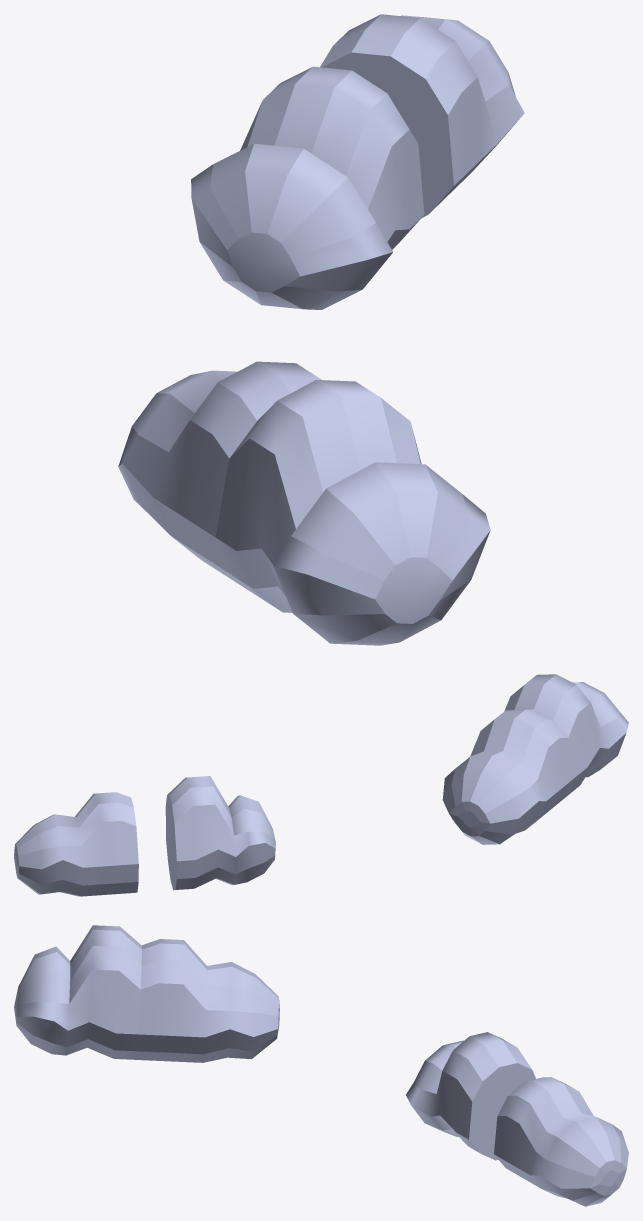
File: CloudResize.fbx
3 renders of one model, top to bottom at view 1: azimuth 30°, elevation 25°; view 2: azimuth 150°, elevation 25°; view 3: azimuth 270°, elevation 25°, orthographic. The views are drawn at different scales.
Parts seen in each view (by area): view 1: Cloud, Cloud_Cut; view 2: Cloud_Cut, Cloud; view 3: Cloud, Cloud_Cut.
Part boxes in pixels (x1=…): Cloud: x1=118, y1=361, x2=490, y2=645; Cloud_Cut: x1=191, y1=14, x2=524, y2=309; Cloud_Cut: x1=14, y1=776, x2=275, y2=896; Cloud: x1=442, y1=674, x2=628, y2=844; Cloud: x1=14, y1=925, x2=279, y2=1062; Cloud_Cut: x1=406, y1=1032, x2=628, y2=1206.
Bounding box in the file's own units: 0.6042 × 0.191 × 0.8219.
